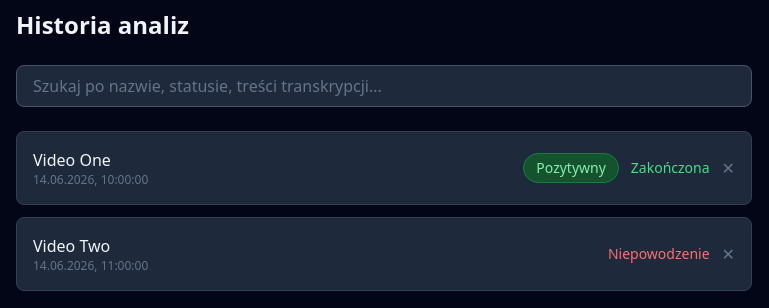
HistoryPage › filters the list using the search input
The width and height of the screenshot is (769, 308).
Expected: the text "Video One" is shown, [33,149,111,171]
In the field with placeholder "Szukaj po nazwie, statusie, treści transkrypcji...": (384, 86) [16,65,752,107], type "calm transcript"
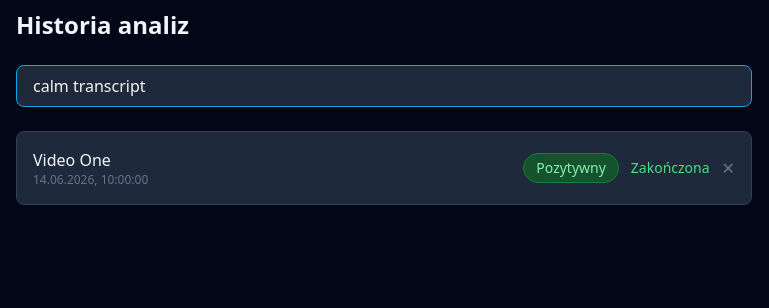
Expected: the text "Video One" is shown, [33,149,111,171]
Result: the link "Video Two" is gone
